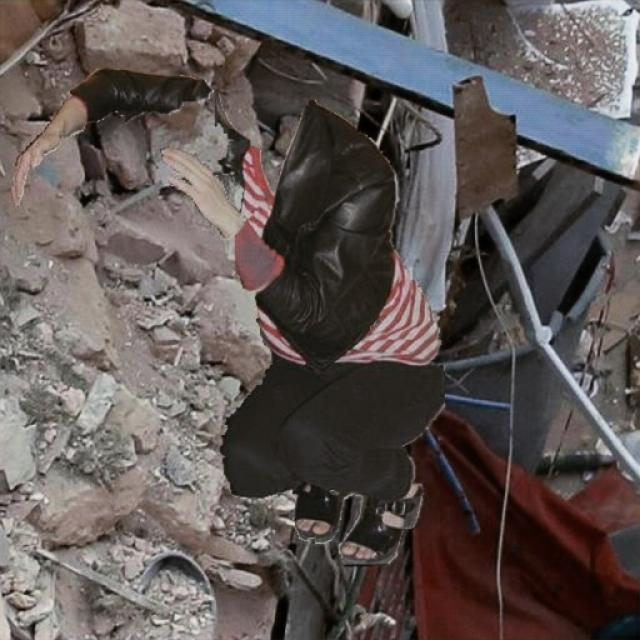Person in Rubble: (11, 67, 444, 565)
